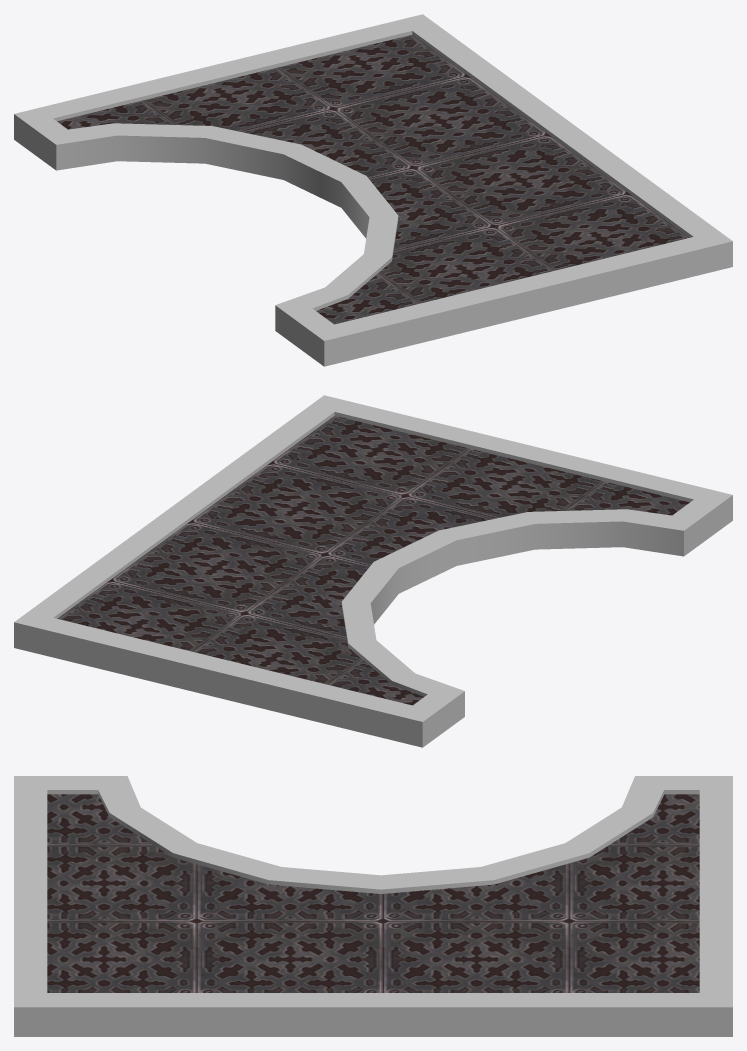
Rendered from cs_chengshi_gongyefb_001.FBX.
The picture shows the model from 3 angles, top to bottom: view 1: azimuth 30°, elevation 25°; view 2: azimuth 150°, elevation 25°; view 3: azimuth 270°, elevation 25°; orthographic projection. The views are drawn at different scales.
Parts seen in each view (by area): view 1: cs_chengshi_gongyefb_001; view 2: cs_chengshi_gongyefb_001; view 3: cs_chengshi_gongyefb_001.
Boxes of the visible parts, box(x1,y1,x2,y2) form: cs_chengshi_gongyefb_001: box(14, 14, 732, 366); cs_chengshi_gongyefb_001: box(14, 395, 732, 747); cs_chengshi_gongyefb_001: box(14, 776, 732, 1036).
Bounding box in the file's own units: 570 × 34.3 × 750.
